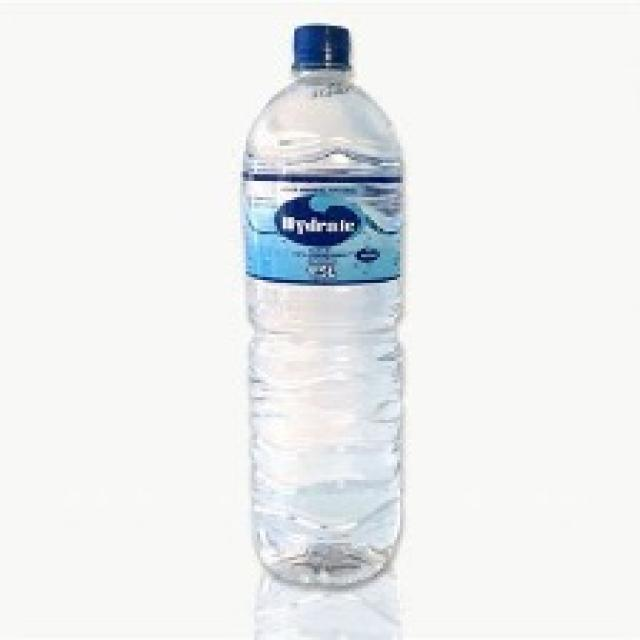plastic_bottle: (210, 23, 429, 589)
